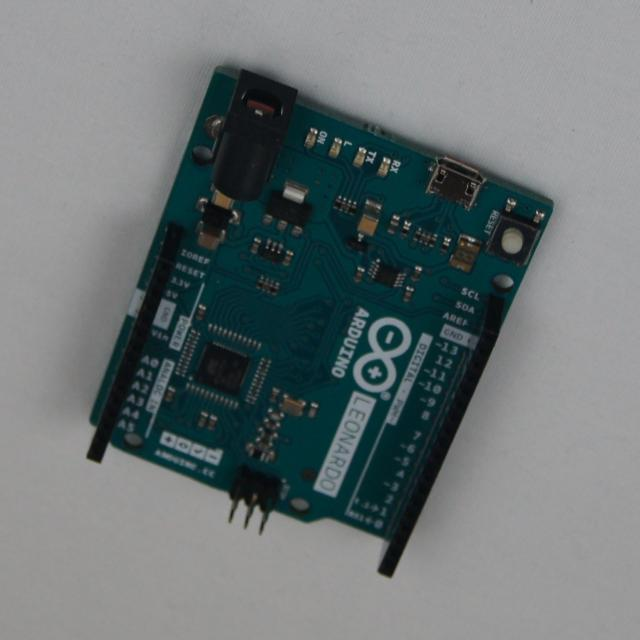Arduino-leonardo: (89, 67, 553, 577)
